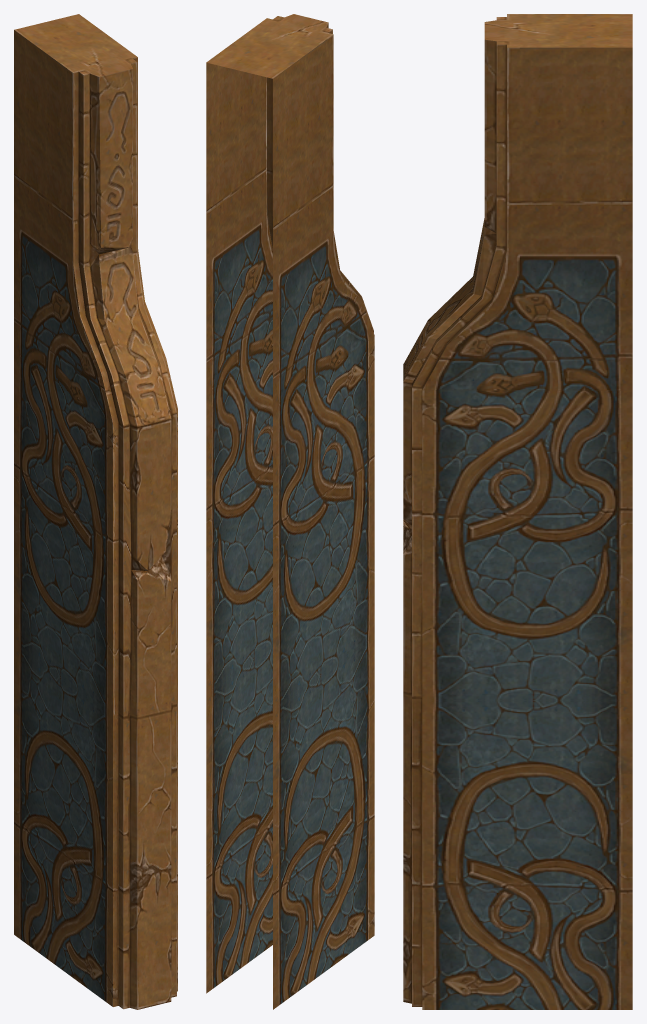
File: shakian_construct_wallunder_01_01.FBX
3 views of the same model, side by side, from view 1: azimuth 30°, elevation 25°; view 2: azimuth 150°, elevation 25°; view 3: azimuth 270°, elevation 25° (orthographic). The views are drawn at different scales.
Parts seen in each view (by area): view 1: shakian_construct_wallunder_01_01; view 2: shakian_construct_wallunder_01_01; view 3: shakian_construct_wallunder_01_01.
Part boxes in pixels (x1,y1,x2,y2): shakian_construct_wallunder_01_01: [14, 14, 177, 1009]; shakian_construct_wallunder_01_01: [206, 14, 374, 1009]; shakian_construct_wallunder_01_01: [403, 14, 632, 1009].
Size of the model in its own units: 3.09 by 41.28 by 8.92.
